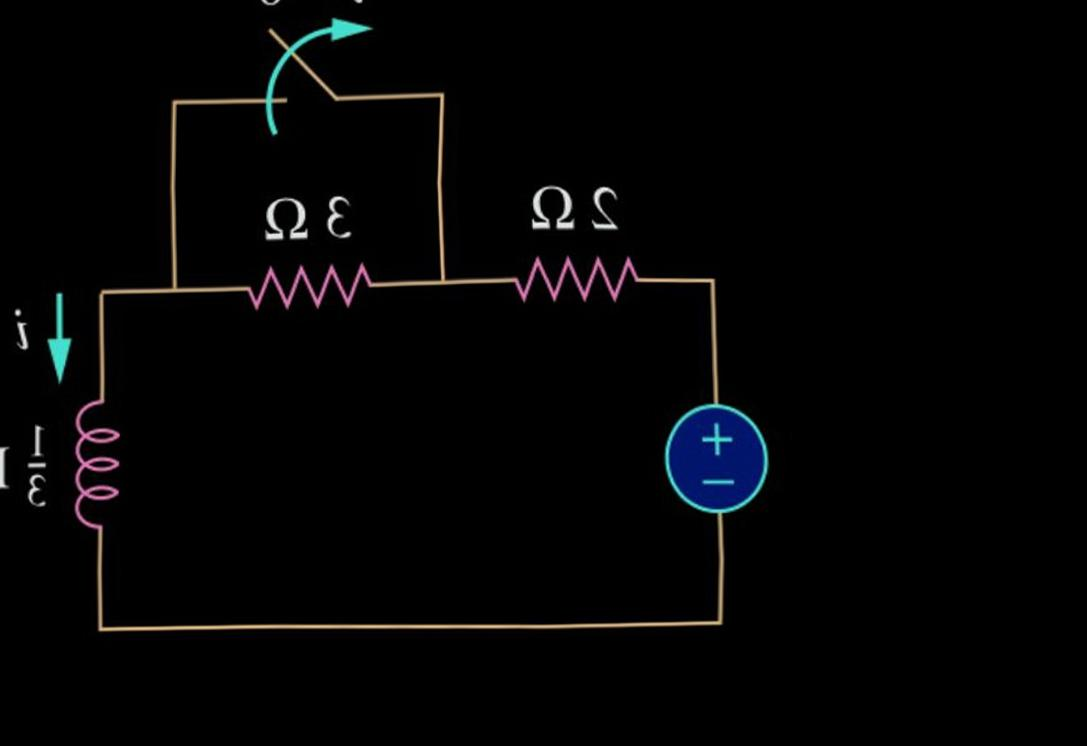Battery: (643, 378, 788, 522)
